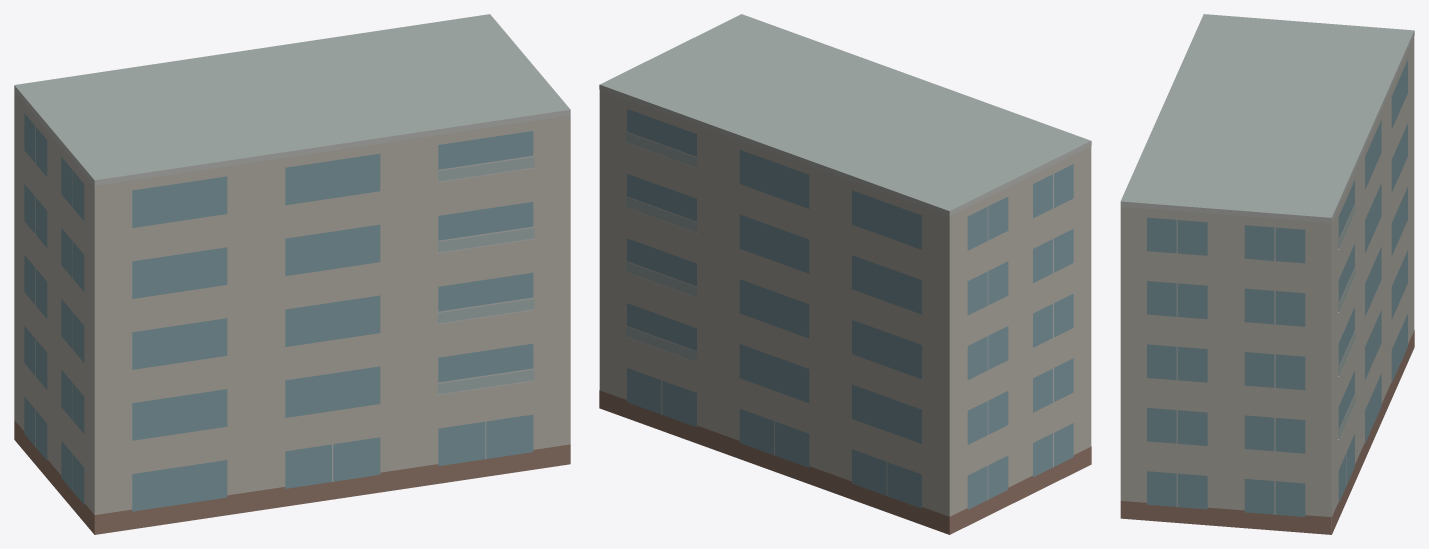
The model's file is survey-upis-33026547.glb.
3 views of the same model, side by side, from view 1: azimuth 30°, elevation 25°; view 2: azimuth 150°, elevation 25°; view 3: azimuth 270°, elevation 25° (orthographic). The views are drawn at different scales.
Visible parts, largest first — view 1: survey-upis-33026547.tmp; view 2: survey-upis-33026547.tmp; view 3: survey-upis-33026547.tmp.
Part boxes in pixels (left/top/right/bottom): survey-upis-33026547.tmp: left=14, top=14, right=570, bottom=534; survey-upis-33026547.tmp: left=599, top=14, right=1091, bottom=534; survey-upis-33026547.tmp: left=1120, top=14, right=1414, bottom=534.
Bounding box in the file's own units: 21.04 × 15.25 × 12.83.
